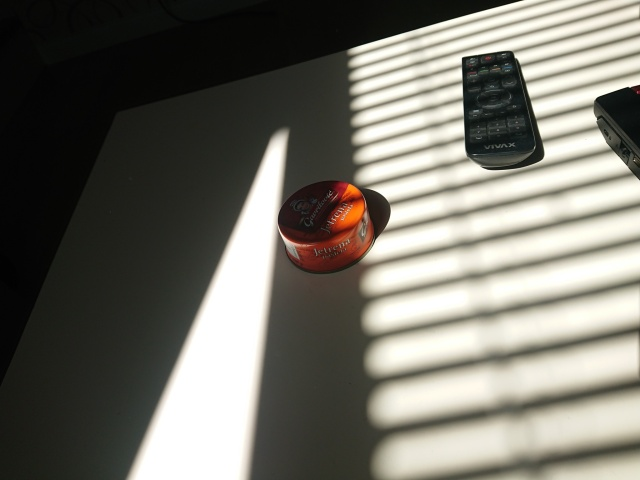Gavrilovic Pork Liver Pate 100g: (275, 177, 378, 277)
